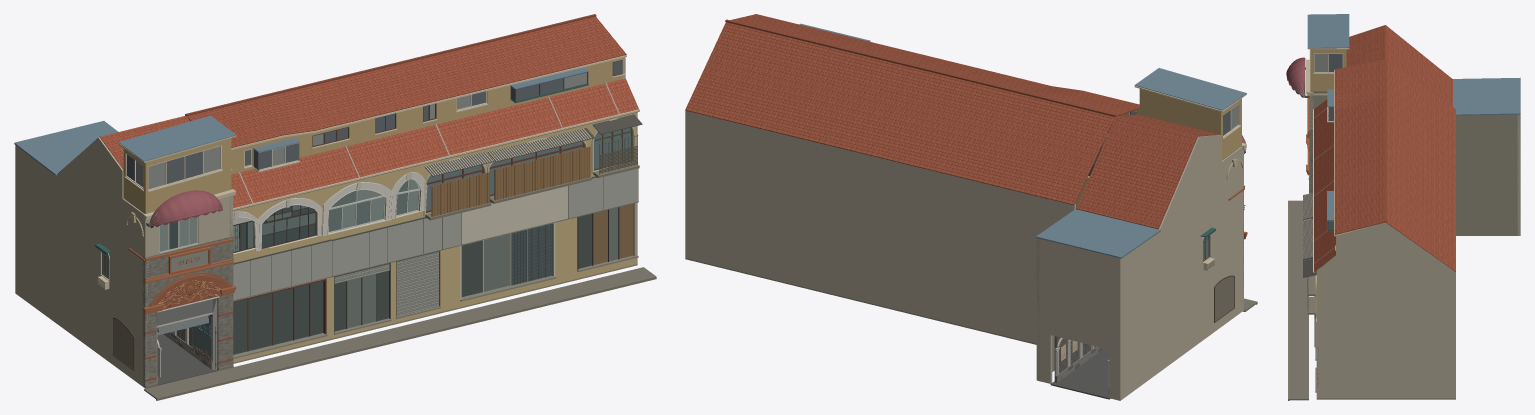
File: changning-hengchang-li-yuyuan-road-gatehouse-web.glb
3 renders of one model, left to right at view 1: azimuth 30°, elevation 25°; view 2: azimuth 150°, elevation 25°; view 3: azimuth 270°, elevation 25°, orthographic. The views are drawn at different scales.
Parts seen in each view (by area): view 1: 亨昌里愚园路南口过街楼与东侧街屋; view 2: 亨昌里愚园路南口过街楼与东侧街屋; view 3: 亨昌里愚园路南口过街楼与东侧街屋.
Boxes of the visible parts, x1=… form: 亨昌里愚园路南口过街楼与东侧街屋: x1=14, y1=14, x2=656, y2=400; 亨昌里愚园路南口过街楼与东侧街屋: x1=685, y1=14, x2=1257, y2=400; 亨昌里愚园路南口过街楼与东侧街屋: x1=1286, y1=14, x2=1520, y2=400.
Bounding box in the file's own units: 36.27 × 16.21 × 17.96.
97 materials, 2 textured.
